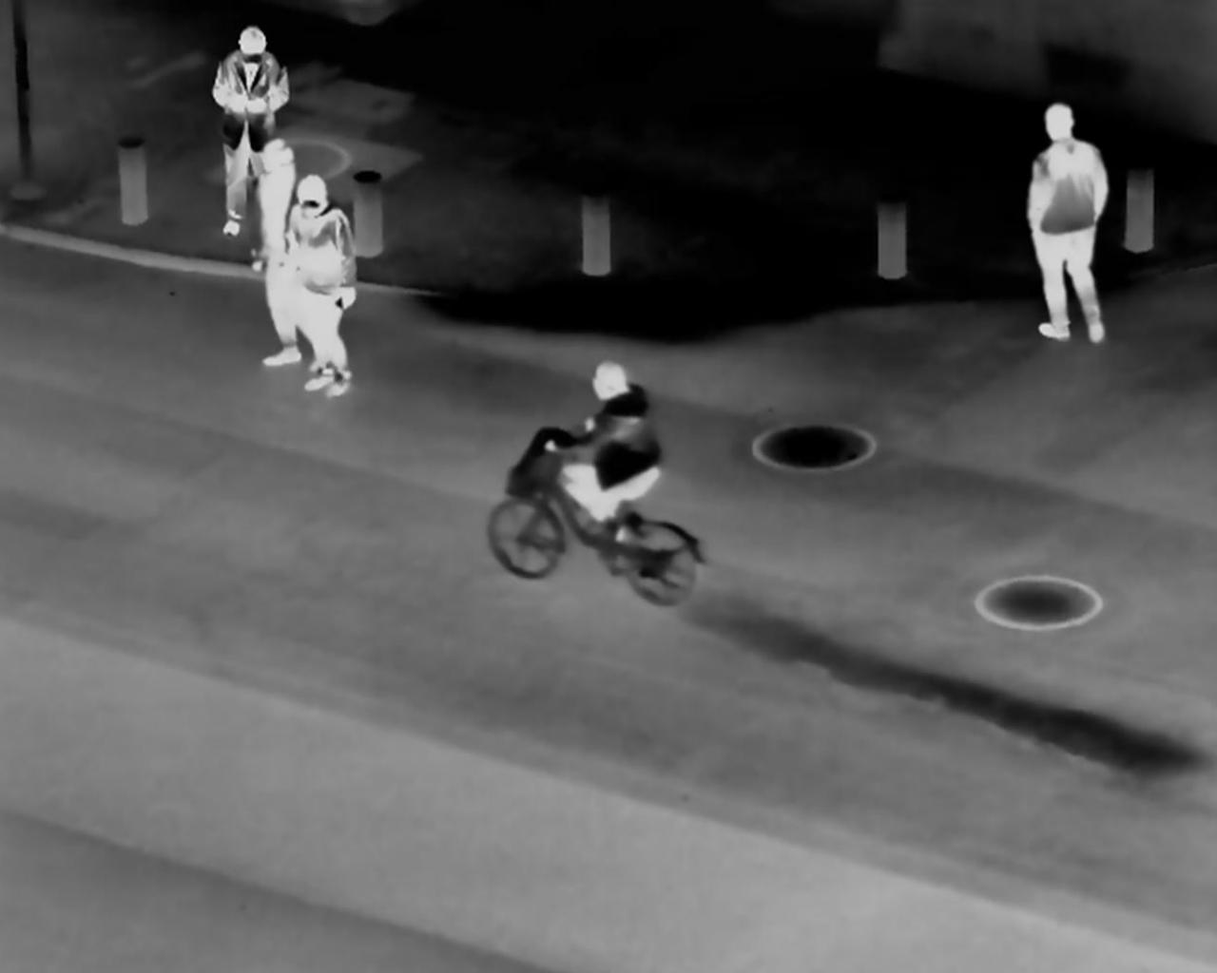person: (544, 346, 656, 555), (1020, 100, 1110, 347), (209, 23, 299, 230), (280, 169, 357, 398), (244, 132, 305, 376)
